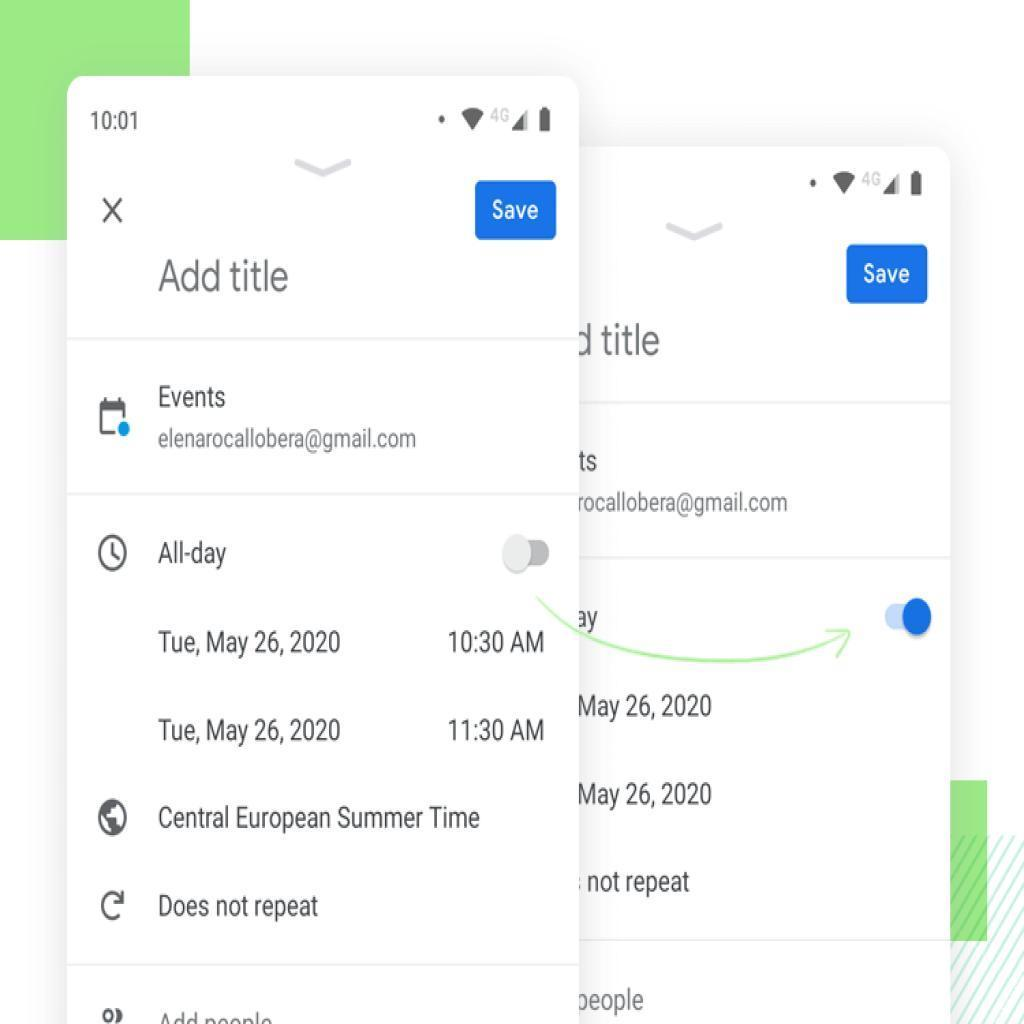button: (476, 178, 560, 241), (847, 243, 931, 306)
icon: (95, 394, 137, 446), (92, 795, 133, 845), (96, 529, 133, 581), (93, 882, 133, 928)
switch: (502, 535, 554, 577), (885, 598, 934, 640)
